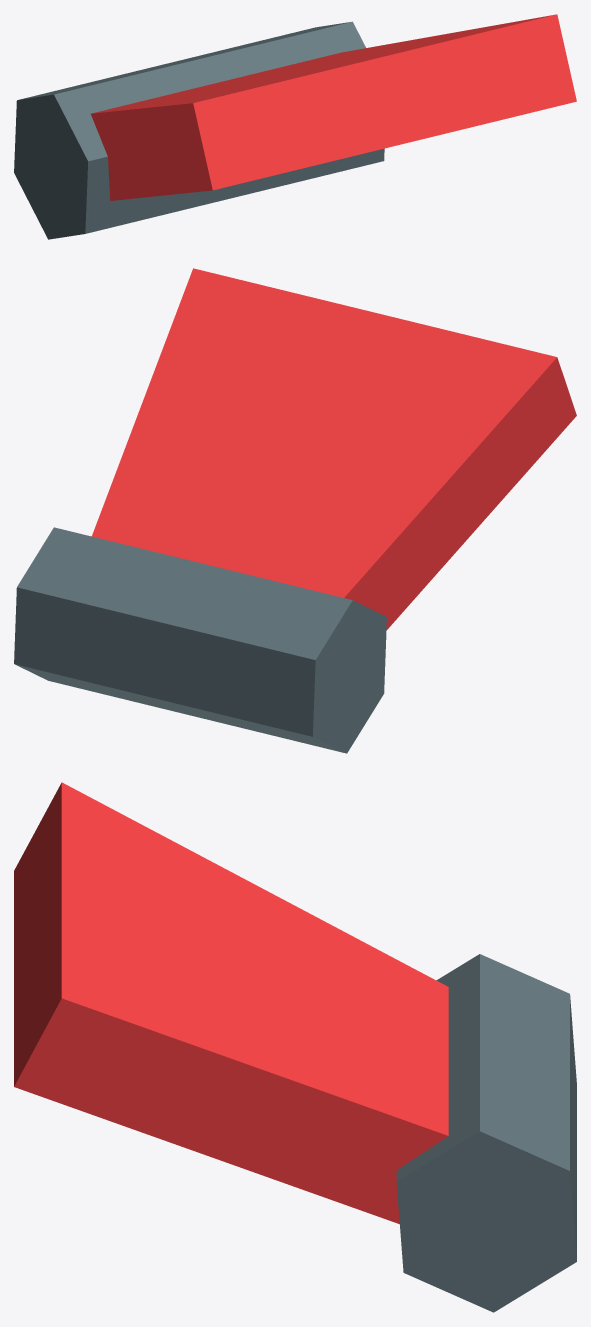
The model's file is Terminal_014_switch_005.fbx.
3 renders of one model, top to bottom at view 1: azimuth 30°, elevation 25°; view 2: azimuth 150°, elevation 25°; view 3: azimuth 270°, elevation 25°, orthographic. The views are drawn at different scales.
Visible parts, largest first — view 1: Terminal_014_switch_005; view 2: Terminal_014_switch_005; view 3: Terminal_014_switch_005.
Part boxes in pixels (x1,y1,x2,y2): Terminal_014_switch_005: (14,14,576,239); Terminal_014_switch_005: (14,268,576,753); Terminal_014_switch_005: (14,782,576,1312).
Bounding box in the file's own units: 5.62 × 6.19 × 4.05.
